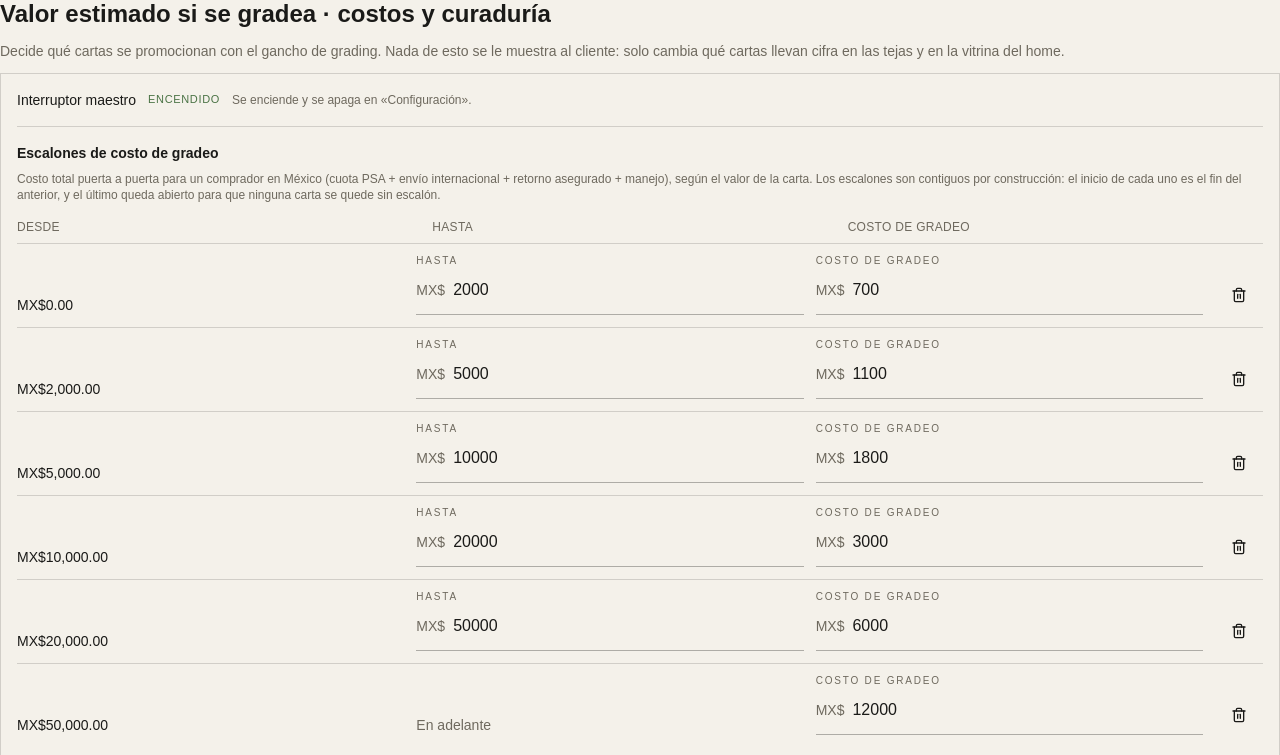
Scenario: GradedEstimatesSection · escalones de costo de gradeo (§M2 / §O.2.1) › quitar escalones fusiona sin dejar huecos, y el ÚLTIMO no se puede quitar (I1)
This screenshot has width=1280, height=755.
Expected: the heading "Escalones de costo de gradeo" is shown, [17, 145, 218, 161]
What coordinates should you click on to do the following:
click the button named "Quitar el escalón 1"
I would click on:
 (1239, 295)
Its box is [1215, 275, 1263, 315].
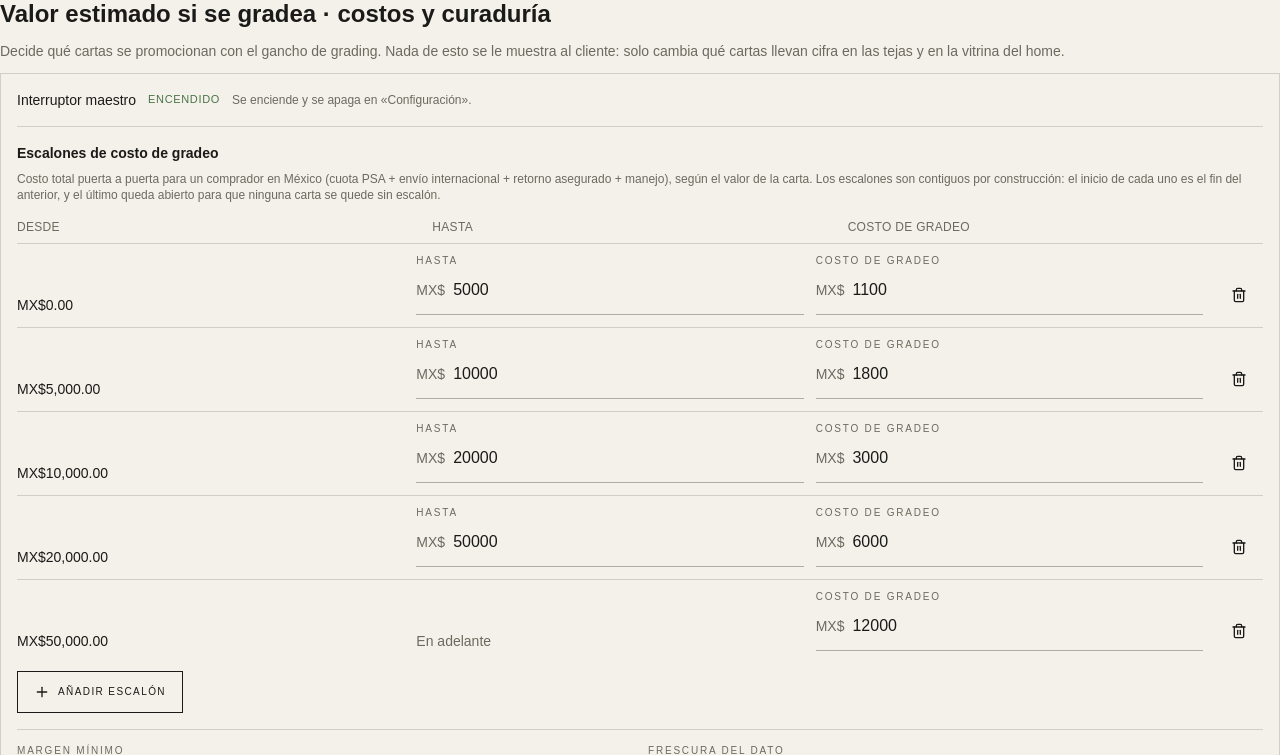
Expected: the number of fields named "Costo de gradeo del escalón" is 5, [852, 278, 1203, 302]; [852, 362, 1203, 386]; [852, 446, 1203, 470]; [852, 530, 1203, 554]; [852, 614, 1203, 638]
Expected: the text "MX$0.00" is shown, [17, 297, 73, 313]
What coordinates should you click on to do the following:
click the button named "Quitar el escalón 1"
I would click on:
 (1239, 295)
Its box is [1215, 275, 1263, 315].
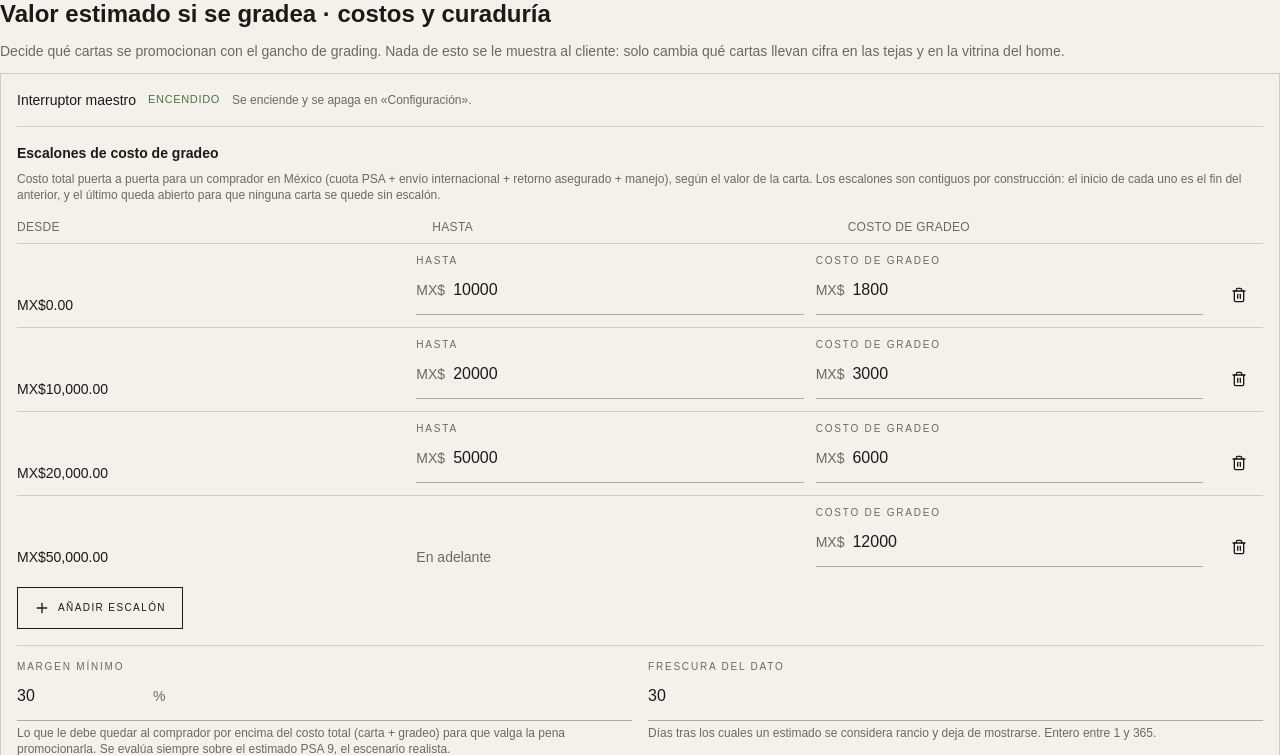
What coordinates should you click on to do the following:
click the button named "Quitar el escalón 1"
I would click on:
 (1239, 295)
Its box is [1215, 275, 1263, 315].
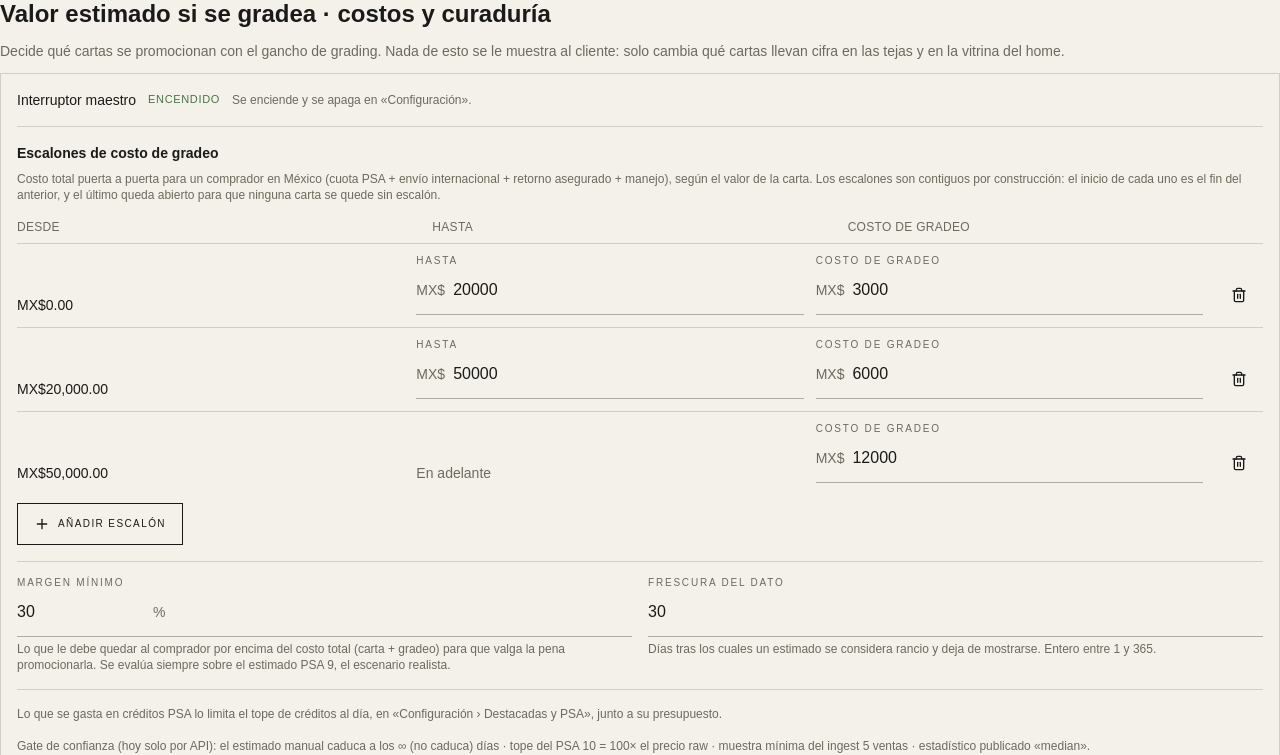
What coordinates should you click on to do the following:
click the button named "Quitar el escalón 1"
I would click on:
 (1239, 295)
Its box is [1215, 275, 1263, 315].
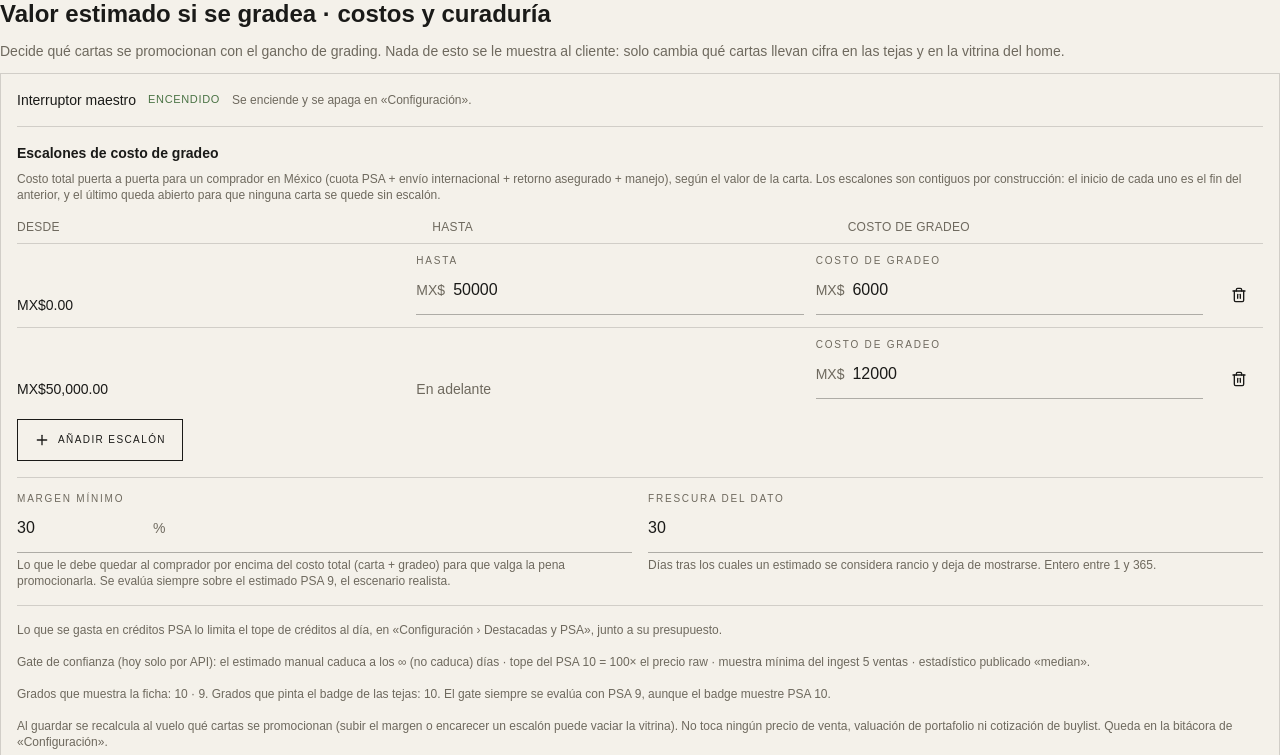
What coordinates should you click on to do the following:
click the button named "Quitar el escalón 1"
I would click on:
 (1239, 295)
Its box is [1215, 275, 1263, 315].
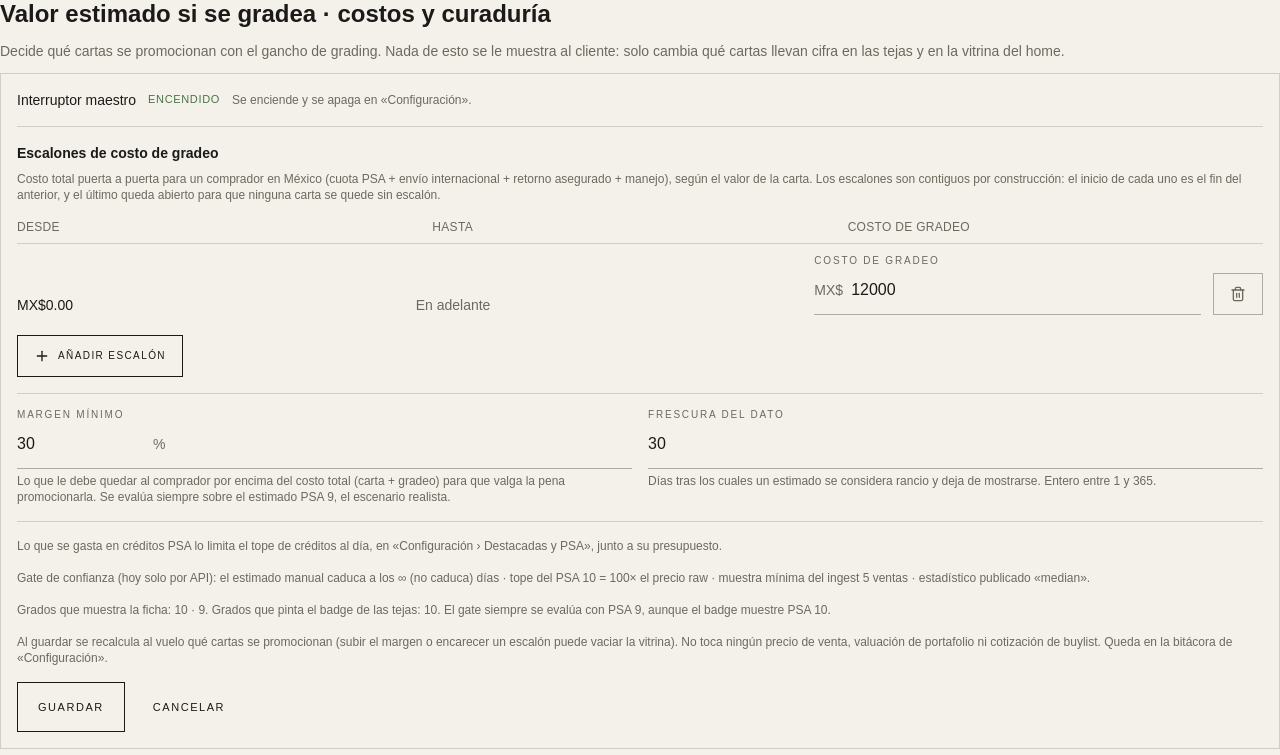
Expected: the number of fields named "Costo de gradeo del escalón" is 1, [851, 278, 1201, 302]
Now the button named "Quitar el escalón 1" is disabled, box [1213, 273, 1263, 315]
